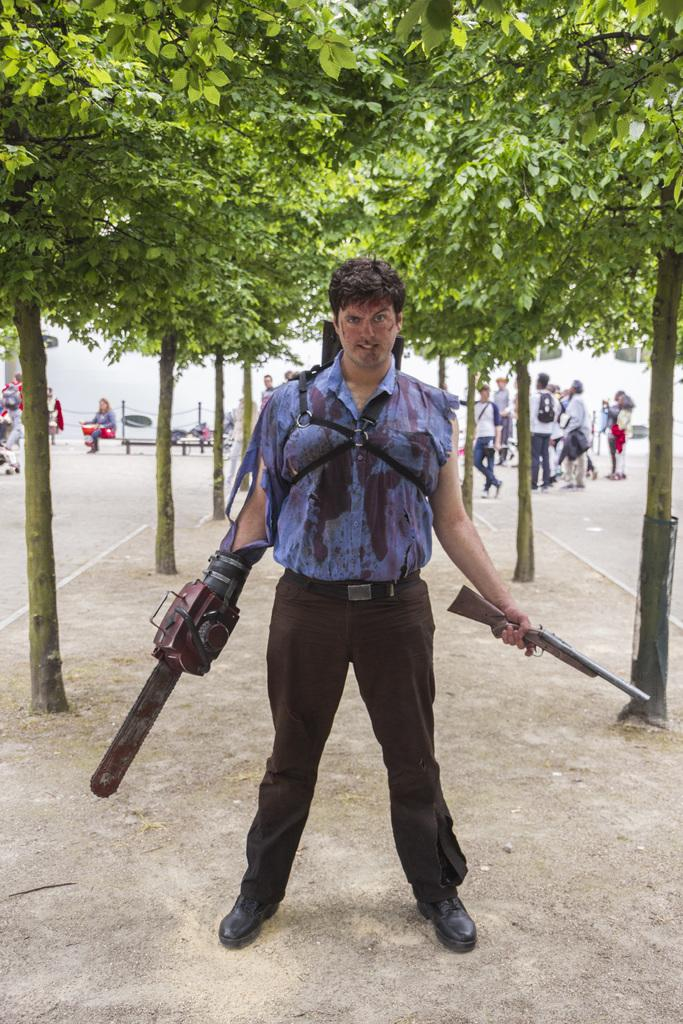Rifle: (88, 557, 247, 813), (439, 579, 655, 706)
